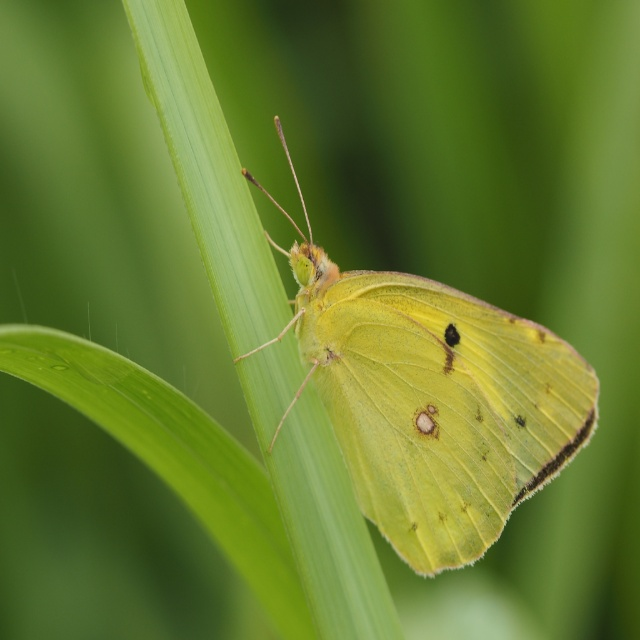Butterfly: (242, 89, 589, 584)
